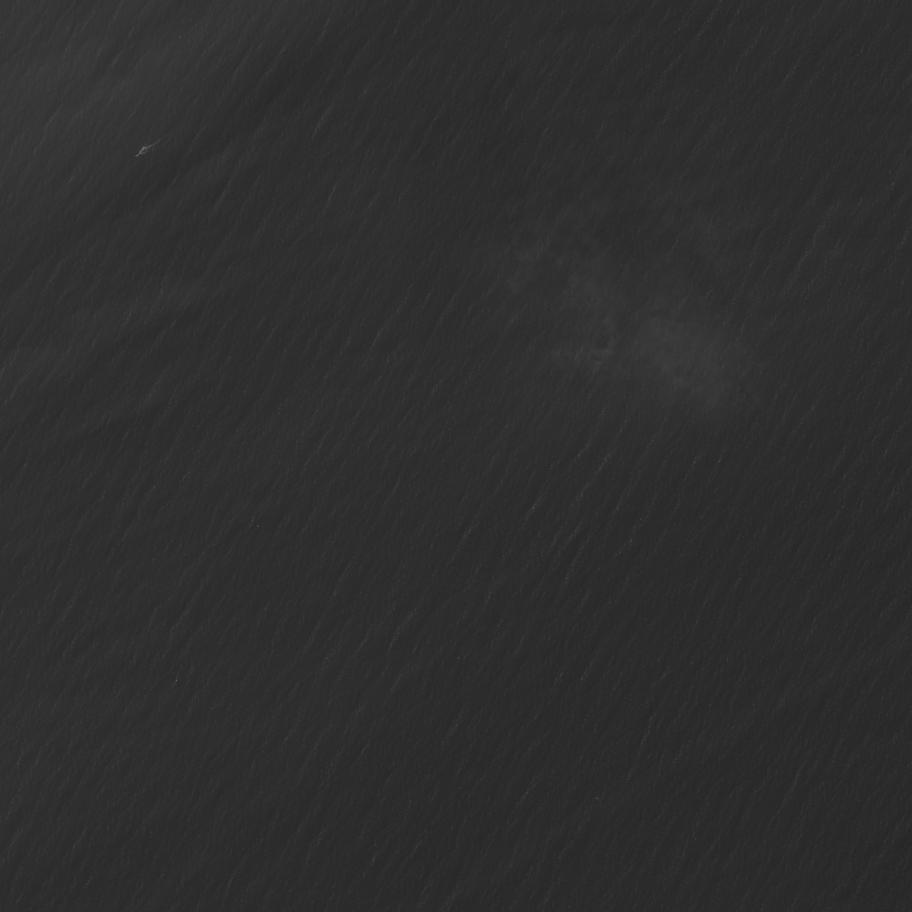ship: (134, 151, 141, 158)
